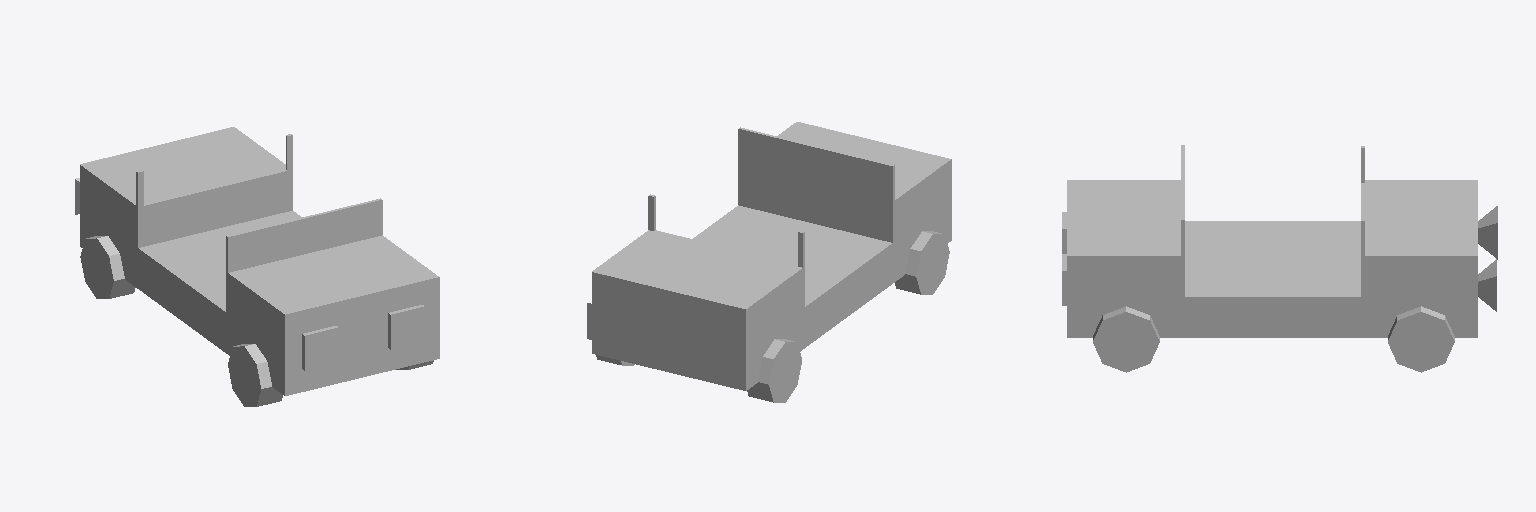
Rendered from cotxe.obj.
3 renders of one model, left to right at view 1: azimuth 30°, elevation 25°; view 2: azimuth 150°, elevation 25°; view 3: azimuth 270°, elevation 25°, orthographic.
Parts seen in each view (by area): view 1: polymsh; view 2: polymsh; view 3: polymsh.
Boxes of the visible parts, x1=… form: polymsh: x1=75, y1=127, x2=439, y2=406; polymsh: x1=587, y1=122, x2=951, y2=402; polymsh: x1=1062, y1=145, x2=1497, y2=372.
Bounding box in the file's own units: 9.14 × 7.29 × 19.5.